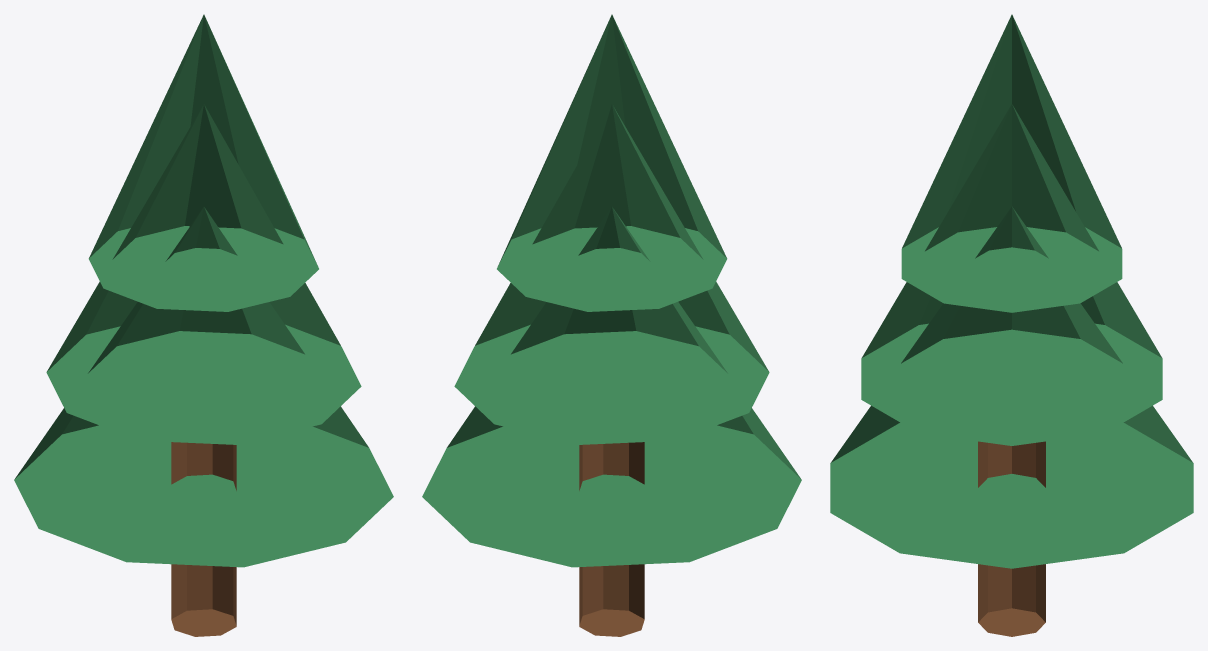
File: MSKU-Track-Tree.glb
3 renders of one model, left to right at view 1: azimuth 30°, elevation 25°; view 2: azimuth 150°, elevation 25°; view 3: azimuth 270°, elevation 25°, orthographic.
Visible parts, largest first — view 1: TrackTree; view 2: TrackTree; view 3: TrackTree.
Boxes of the visible parts, x1,y1,x2,y2 form: TrackTree: [14, 14, 393, 636]; TrackTree: [422, 14, 801, 636]; TrackTree: [830, 14, 1193, 636].
Size of the model in its own units: 2.7 by 4.75 by 2.57.
